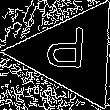P_S: (50, 28, 94, 80)
